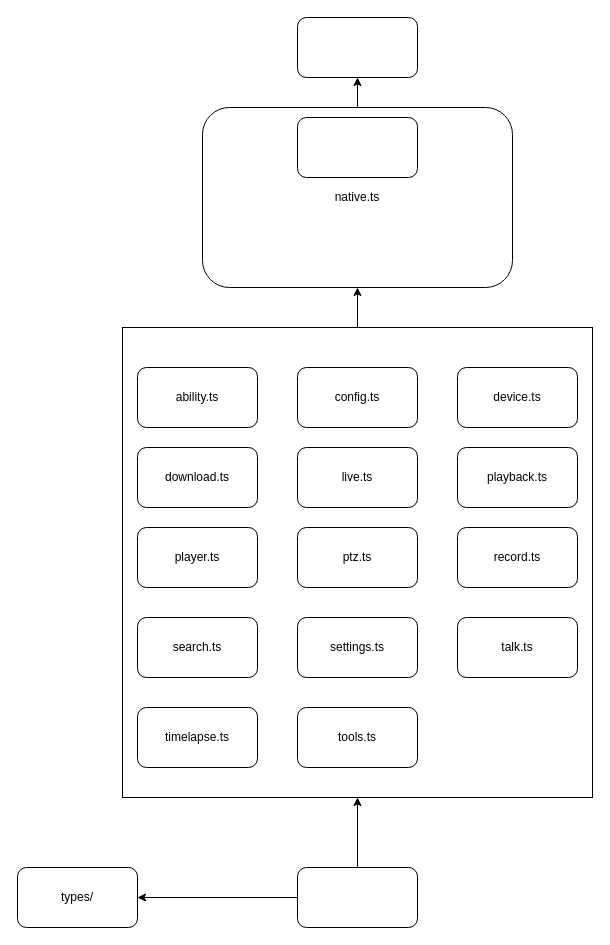
Some shapes in this 610 by 945 pixel diagram are drawn without their labels. The centre of each missing label's shape, as x and y in pixels:
"dll" goes at point (357, 47).
"index.ts" goes at point (357, 897).
"node-ffi-napi 加载dll" goes at point (357, 147).
